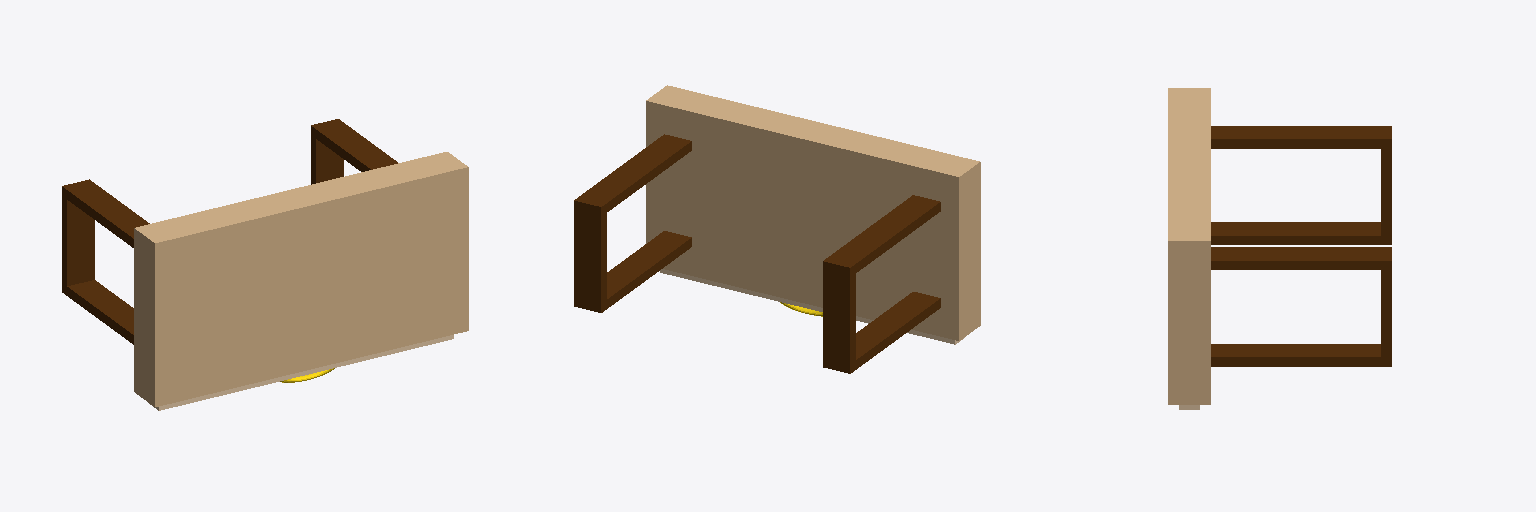
Rendered from tinker.obj.
The picture shows the model from 3 angles: view 1: azimuth 30°, elevation 25°; view 2: azimuth 150°, elevation 25°; view 3: azimuth 270°, elevation 25°; orthographic projection.
Parts seen in each view (by area): view 1: obj_0; view 2: obj_0; view 3: obj_0.
Part boxes in pixels (left/top/right/bottom): obj_0: left=62, top=119, right=468, bottom=410; obj_0: left=574, top=85, right=980, bottom=373; obj_0: left=1168, top=88, right=1391, bottom=409.
Size of the model in its own units: 34 by 19 by 21.